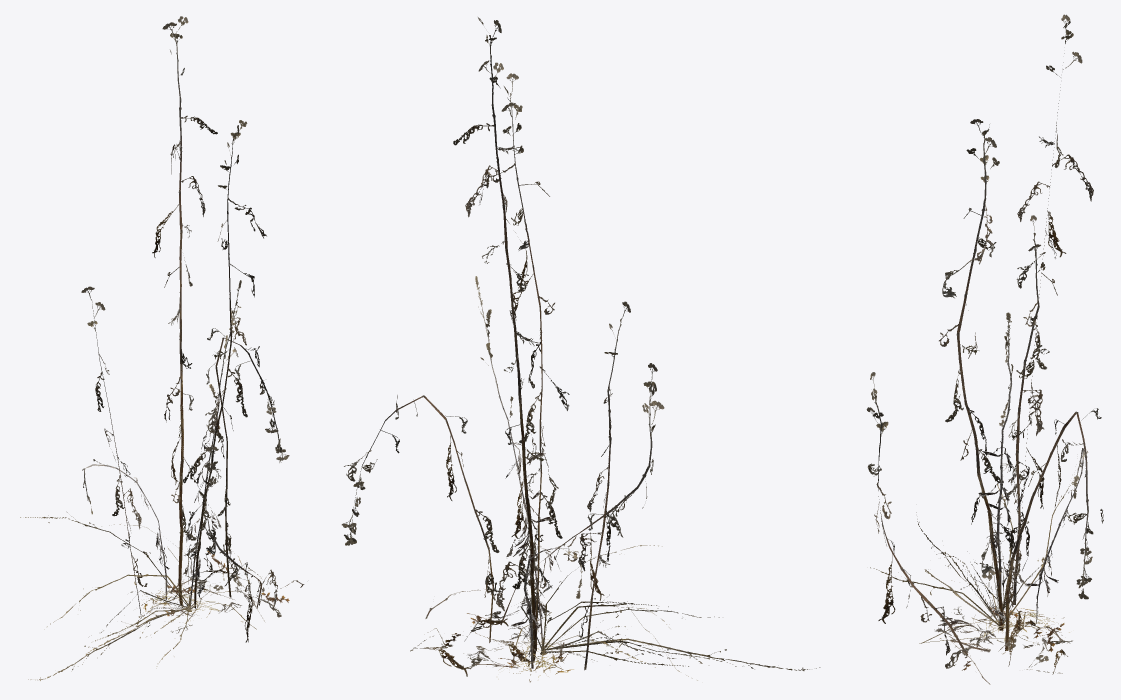
File: desert_reed_1_4.FBX
The picture shows the model from 3 angles, left to right: view 1: azimuth 30°, elevation 25°; view 2: azimuth 150°, elevation 25°; view 3: azimuth 270°, elevation 25°; orthographic projection. The views are drawn at different scales.
Visible parts, largest first — view 1: desert_reed_1_4; view 2: desert_reed_1_4; view 3: desert_reed_1_4.
Boxes of the visible parts, left/top/right/bottom form: desert_reed_1_4: left=20, top=16, right=304, bottom=680; desert_reed_1_4: left=341, top=17, right=820, bottom=682; desert_reed_1_4: left=866, top=14, right=1103, bottom=684.
Size of the model in its own units: 72.51 by 113 by 39.51.
1 material, 1 textured.
